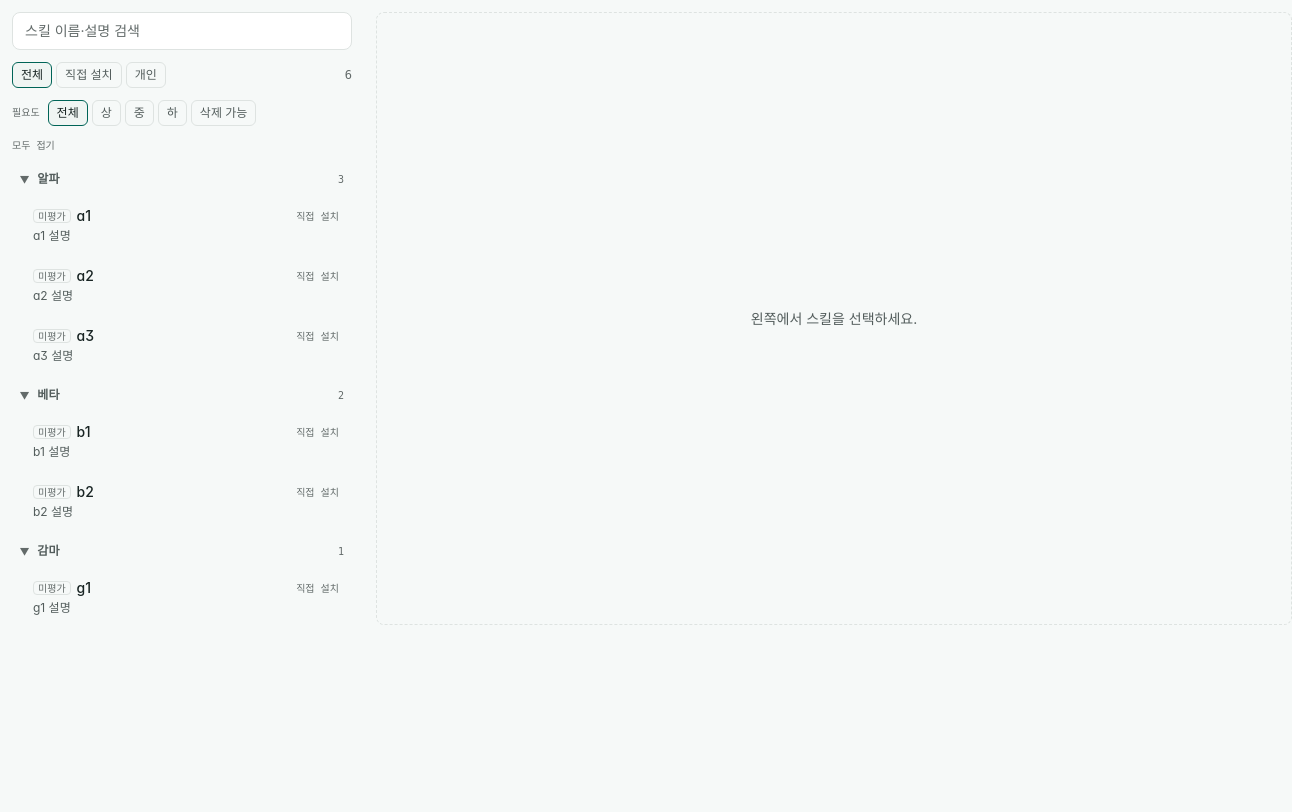
SkillCatalog 접기/펼치기 › 검색 해제 시 수동 접힘 상태 복원
This screenshot has width=1292, height=812.
Click the button "▶ 알파 3" at (25, 179), box 12,165 -> 352,193
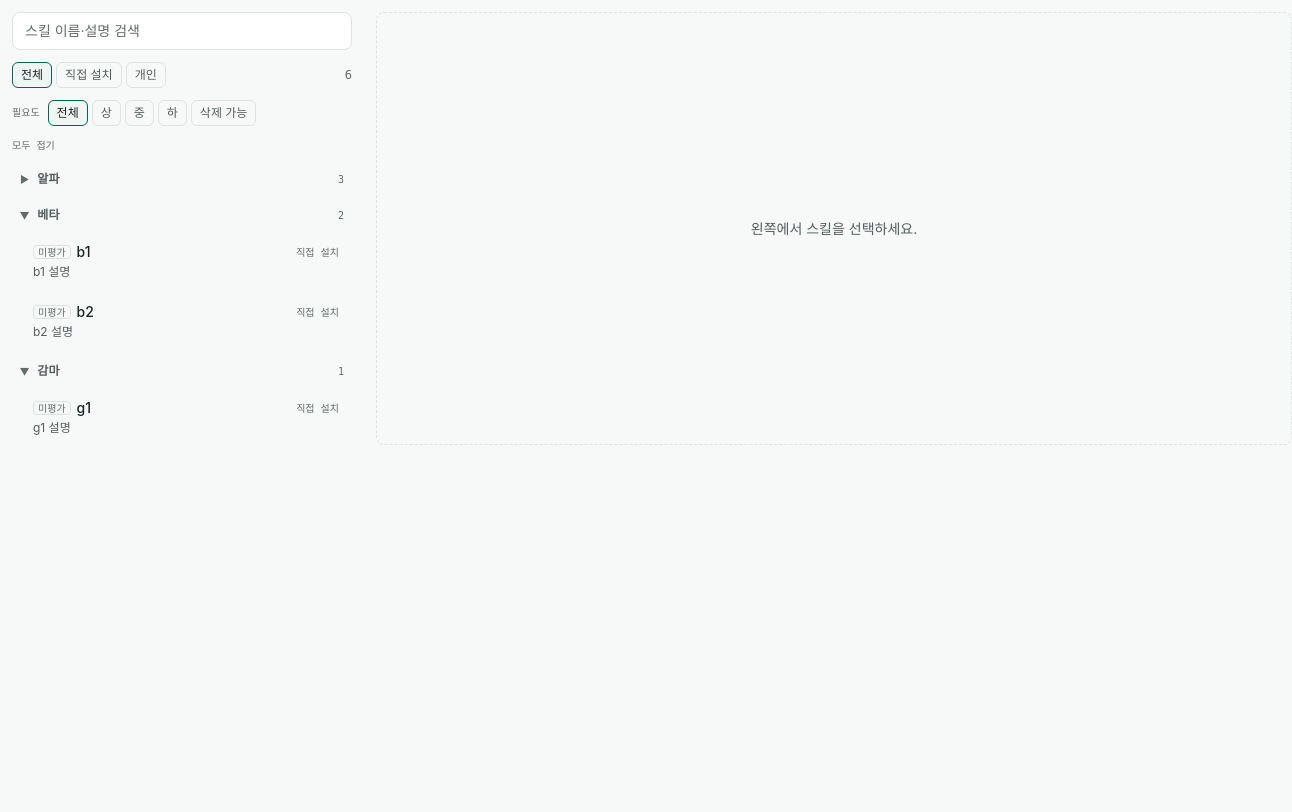
Type "a1" into the search field with placeholder "스킬 이름·설명 검색" at (182, 31), box 12,12 -> 352,50
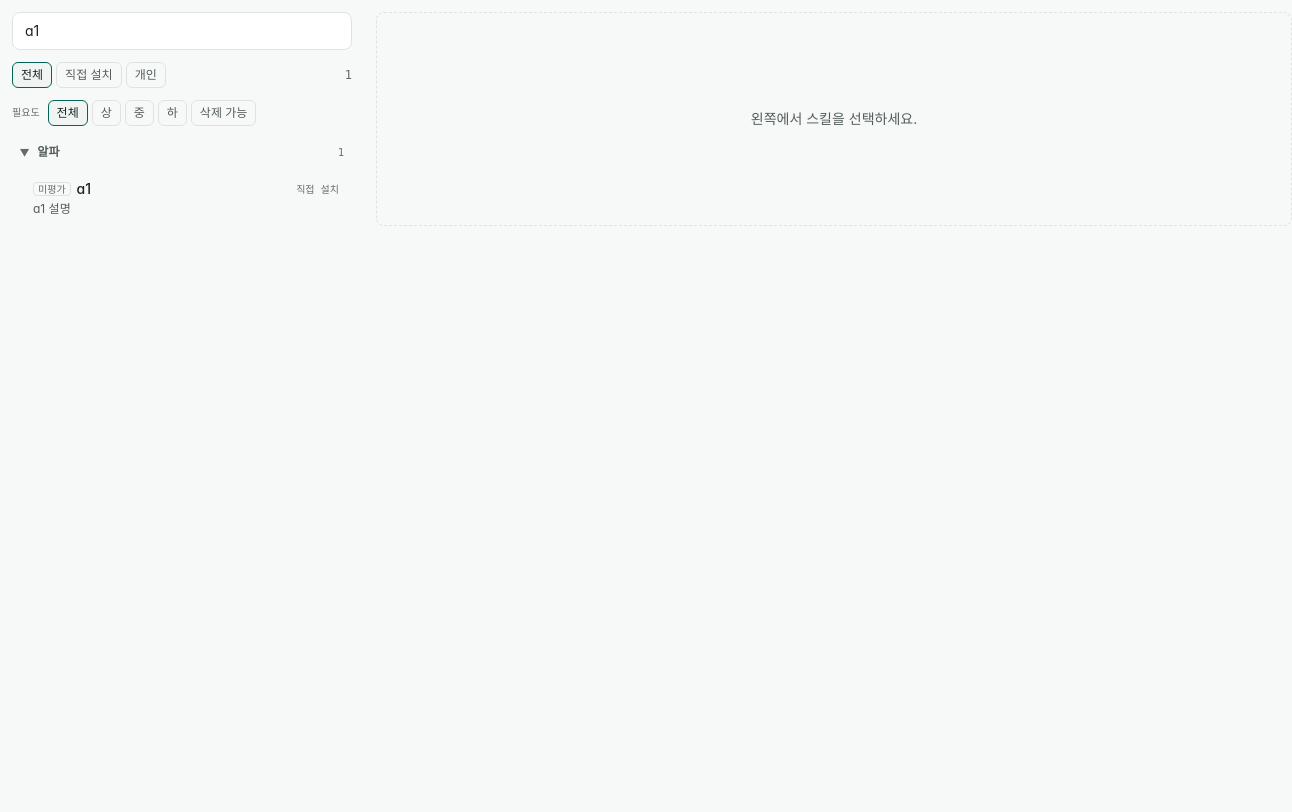
expect the button "▶ 알파 1" is expanded: met, box 12,138 -> 352,166
Clear the search field named "스킬 검색" at (182, 31), box 12,12 -> 352,50
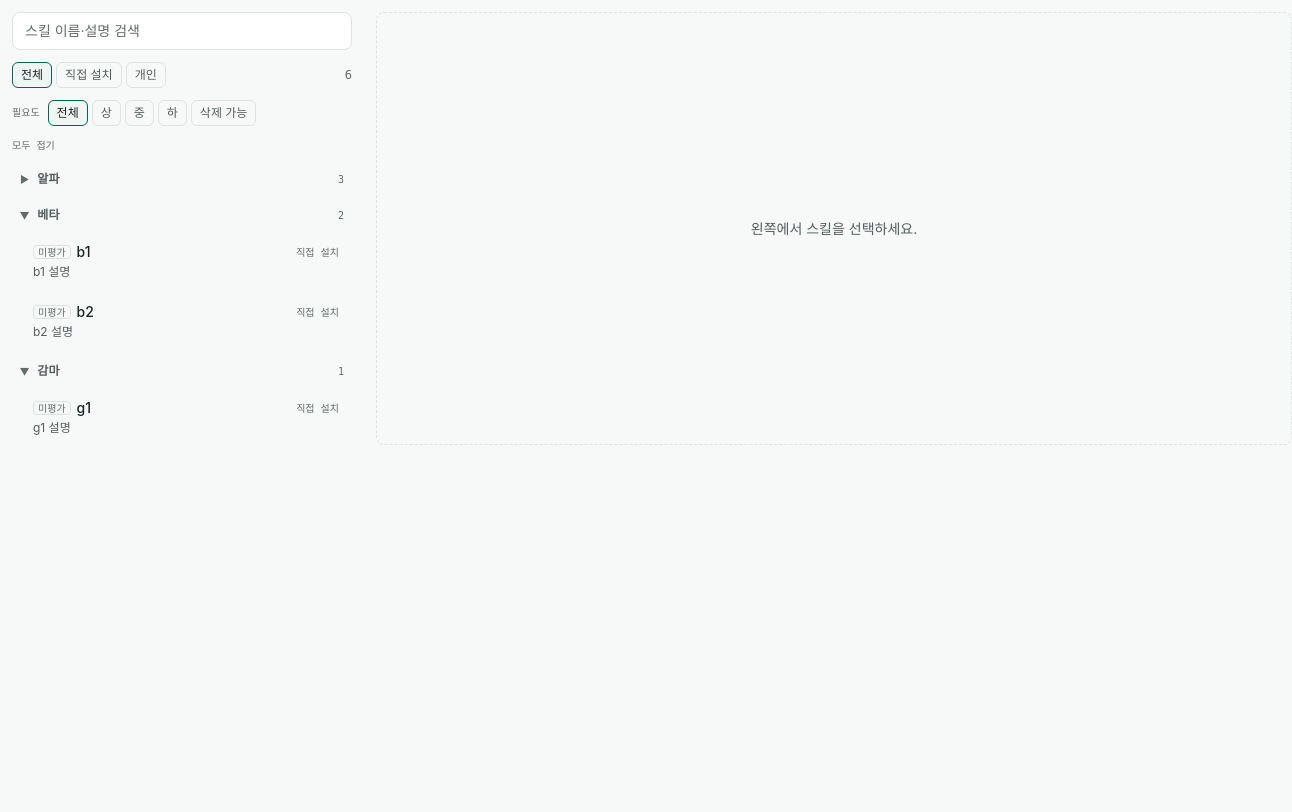
expect the button "▶ 알파 3" is collapsed: met, box 12,165 -> 352,193
